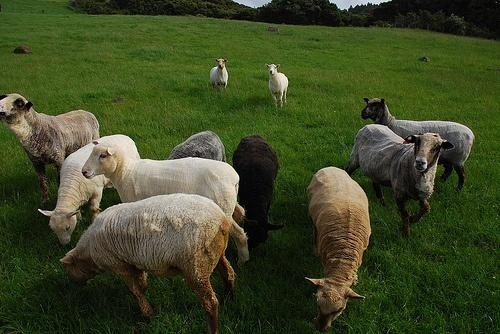sheep: (59, 194, 242, 334), (83, 140, 250, 262), (344, 125, 454, 241), (305, 167, 375, 330), (41, 136, 142, 247), (361, 97, 476, 191), (1, 94, 100, 201), (238, 134, 284, 246), (168, 133, 228, 162), (264, 62, 291, 108), (208, 58, 230, 91)
